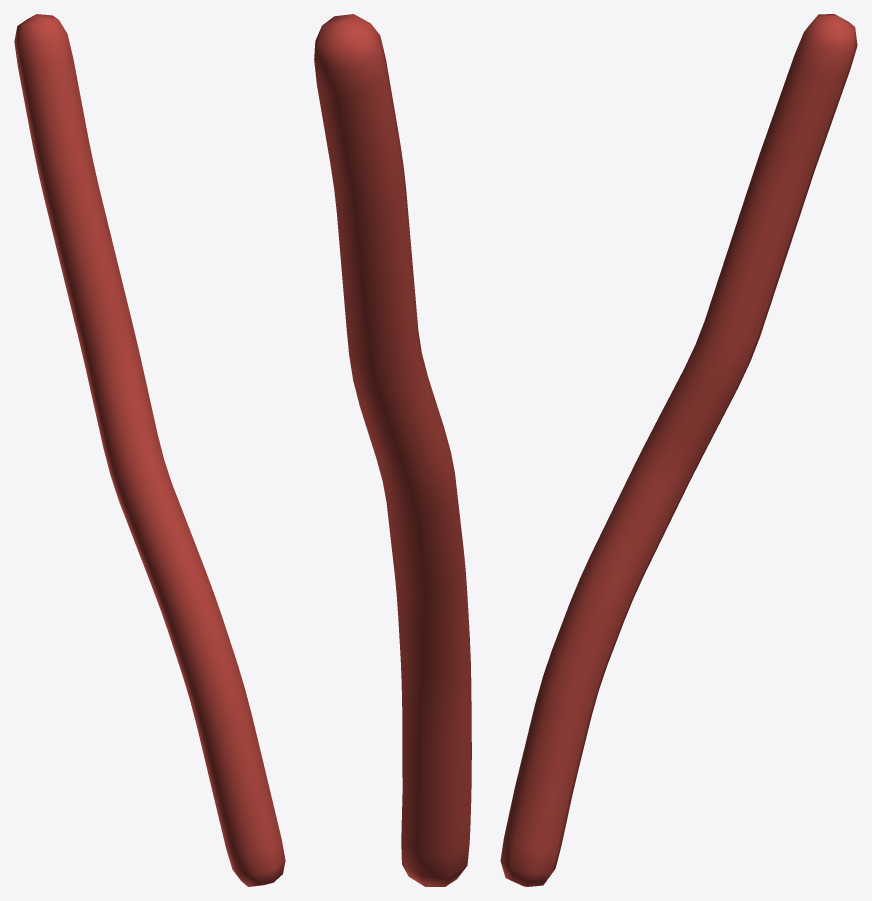
Rendered from musculos-tendon-sheath-of-extensor-digiti-minimi-manus-r.glb.
3 renders of one model, left to right at view 1: azimuth 30°, elevation 25°; view 2: azimuth 150°, elevation 25°; view 3: azimuth 270°, elevation 25°, orthographic. The views are drawn at different scales.
Parts seen in each view (by area): view 1: Tendon sheath of extensor digiti minimi manus.r; view 2: Tendon sheath of extensor digiti minimi manus.r; view 3: Tendon sheath of extensor digiti minimi manus.r.
Boxes of the visible parts, bbox=[...] form: Tendon sheath of extensor digiti minimi manus.r: bbox=[14, 14, 285, 886]; Tendon sheath of extensor digiti minimi manus.r: bbox=[314, 14, 471, 886]; Tendon sheath of extensor digiti minimi manus.r: bbox=[500, 14, 857, 886].
Bounding box in the file's own units: 0.0121 × 0.0741 × 0.0289.
